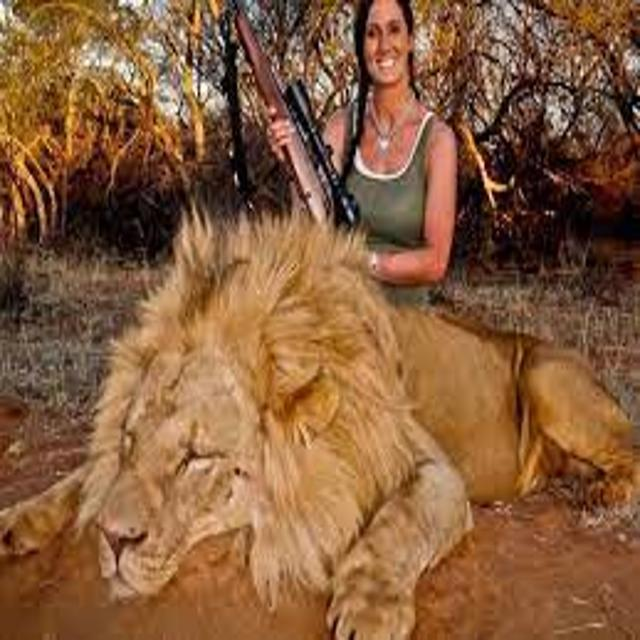gun: (203, 2, 382, 274)
poacher: (214, 1, 481, 332)
tiger: (16, 203, 638, 640)
